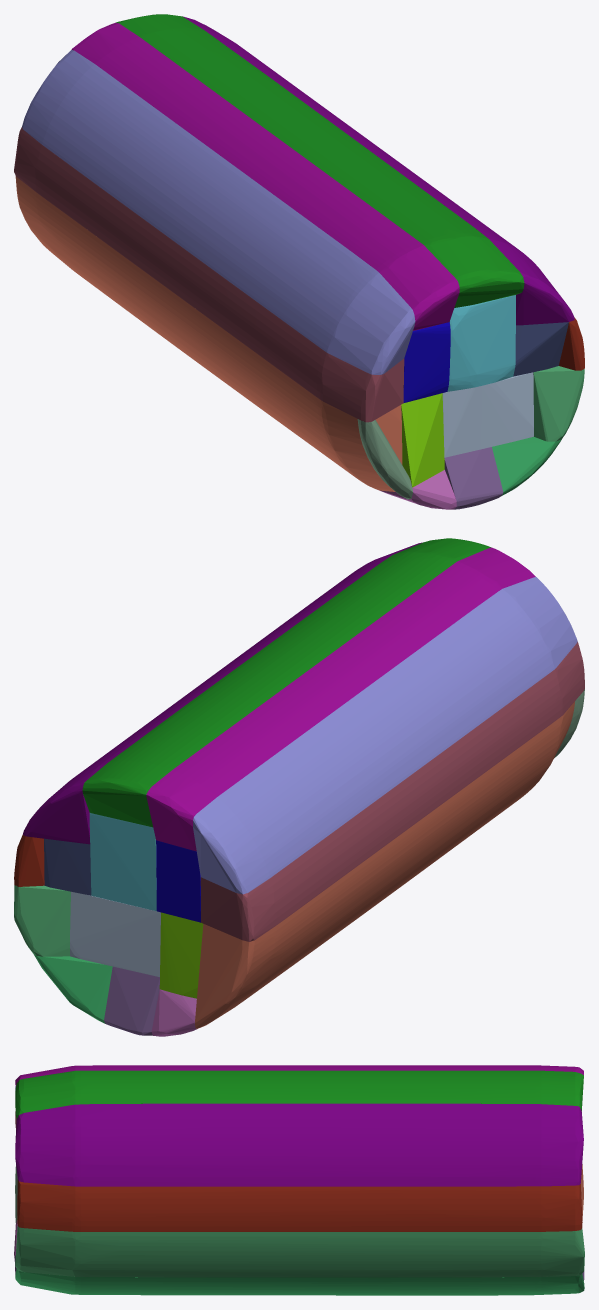
Rendered from coacd_collision.obj.
The picture shows the model from 3 angles, top to bottom: view 1: azimuth 30°, elevation 25°; view 2: azimuth 150°, elevation 25°; view 3: azimuth 270°, elevation 25°; orthographic projection. The views are drawn at different scales.
Parts seen in each view (by area): view 1: geometry_12, geometry_14, geometry_8, geometry_13, geometry_9, geometry_11, geometry_6, geometry_2, geometry_4, geometry_5, geometry_3, geometry_1 (+5 smaller); view 2: geometry_12, geometry_14, geometry_8, geometry_9, geometry_13, geometry_11, geometry_6, geometry_2, geometry_3, geometry_4, geometry_5, geometry_1 (+4 smaller); view 3: geometry_11, geometry_15, geometry_3, geometry_8, geometry_10, geometry_14.
Boxes of the visible parts, x1=… form: geometry_12: x1=22, y1=50, x2=415, y2=374; geometry_14: x1=71, y1=22, x2=459, y2=330; geometry_8: x1=116, y1=14, x2=524, y2=307; geometry_13: x1=14, y1=127, x2=404, y2=422; geometry_9: x1=15, y1=176, x2=402, y2=491; geometry_11: x1=182, y1=16, x2=574, y2=325; geometry_6: x1=442, y1=372, x2=533, y2=457; geometry_2: x1=447, y1=295, x2=515, y2=391; geometry_4: x1=401, y1=393, x2=444, y2=487; geometry_5: x1=403, y1=322, x2=450, y2=402; geometry_3: x1=533, y1=366, x2=584, y2=441; geometry_1: x1=444, y1=447, x2=503, y2=509; geometry_12: x1=193, y1=577, x2=577, y2=894; geometry_14: x1=146, y1=547, x2=535, y2=851; geometry_8: x1=82, y1=538, x2=491, y2=827; geometry_9: x1=195, y1=701, x2=574, y2=1028; geometry_13: x1=200, y1=642, x2=584, y2=941; geometry_11: x1=23, y1=542, x2=422, y2=844; geometry_6: x1=70, y1=891, x2=160, y2=976; geometry_2: x1=89, y1=813, x2=156, y2=911; geometry_3: x1=14, y1=885, x2=70, y2=956; geometry_4: x1=159, y1=912, x2=203, y2=998; geometry_5: x1=156, y1=840, x2=200, y2=922; geometry_1: x1=104, y1=966, x2=159, y2=1035; geometry_11: x1=15, y1=1103, x2=583, y2=1186; geometry_15: x1=17, y1=1179, x2=582, y2=1231; geometry_3: x1=15, y1=1226, x2=584, y2=1277; geometry_8: x1=15, y1=1070, x2=583, y2=1118; geometry_10: x1=15, y1=1269, x2=584, y2=1295; geometry_14: x1=15, y1=1065, x2=583, y2=1085.
Bounding box in the file's own units: 54.26 × 54.22 × 135.
